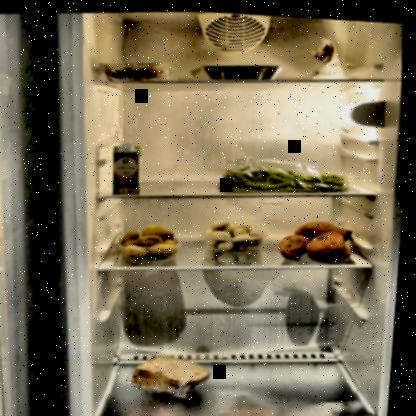green_beans: (219, 154, 354, 197)
heavy_cream: (110, 140, 147, 196)
mushrooms: (201, 212, 271, 252)
potato: (120, 218, 187, 261)
shrimp: (104, 60, 176, 83)
sweet_potato: (278, 210, 362, 263)
